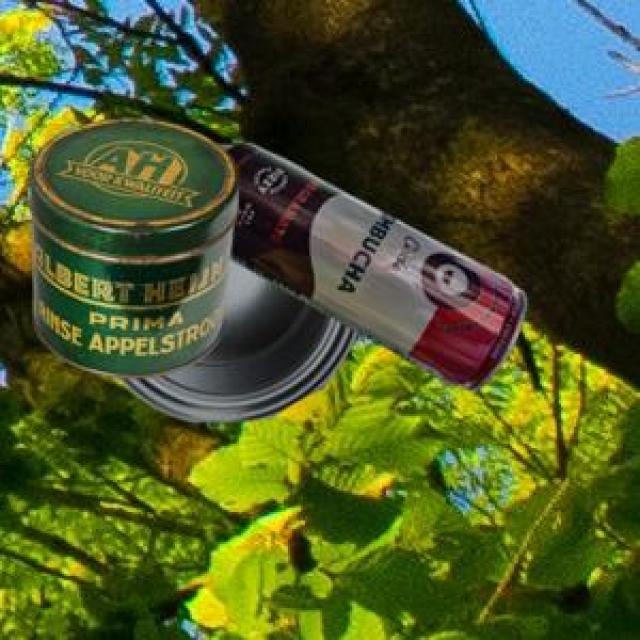logam: (221, 140, 524, 387), (27, 116, 236, 374), (116, 255, 355, 419)
